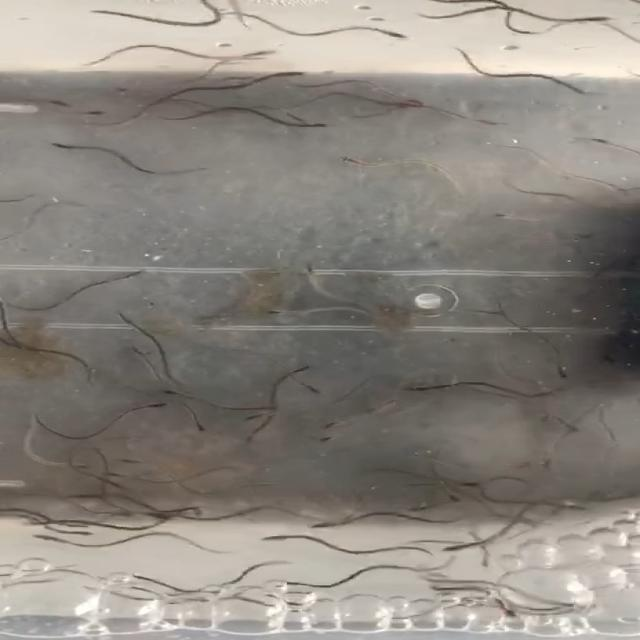active_glass_eel: (442, 537, 491, 552), (233, 46, 272, 62), (578, 8, 618, 23), (45, 139, 82, 154), (294, 119, 336, 132), (376, 27, 411, 42), (494, 605, 529, 620), (24, 531, 64, 544), (266, 67, 309, 79), (566, 84, 602, 98), (258, 531, 303, 542), (76, 102, 110, 116), (339, 154, 377, 166), (446, 479, 484, 491), (603, 181, 635, 195), (404, 501, 444, 512), (113, 455, 146, 468), (302, 382, 330, 397), (478, 552, 499, 572), (42, 95, 74, 108), (108, 508, 142, 520), (391, 92, 422, 105), (474, 115, 510, 126), (62, 526, 95, 538), (320, 418, 346, 433), (488, 211, 522, 222), (139, 510, 173, 521), (116, 268, 147, 280), (404, 382, 440, 392), (444, 490, 469, 504), (300, 261, 318, 280), (314, 431, 345, 442), (549, 366, 573, 380), (586, 136, 619, 146), (165, 388, 198, 398), (138, 400, 168, 411), (266, 307, 298, 317), (310, 520, 350, 528), (557, 504, 589, 514), (477, 309, 507, 319), (242, 433, 262, 448), (103, 467, 126, 480), (272, 579, 305, 588), (267, 608, 316, 614), (122, 346, 146, 358), (189, 421, 211, 434), (59, 461, 90, 469), (244, 413, 266, 423)
